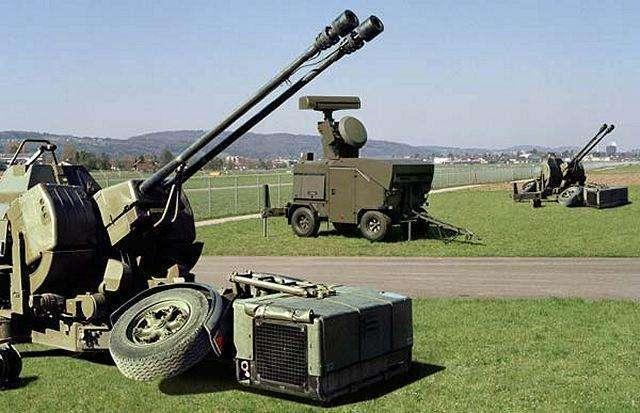MIL_SPG: (0, 11, 412, 401), (512, 125, 629, 208)
